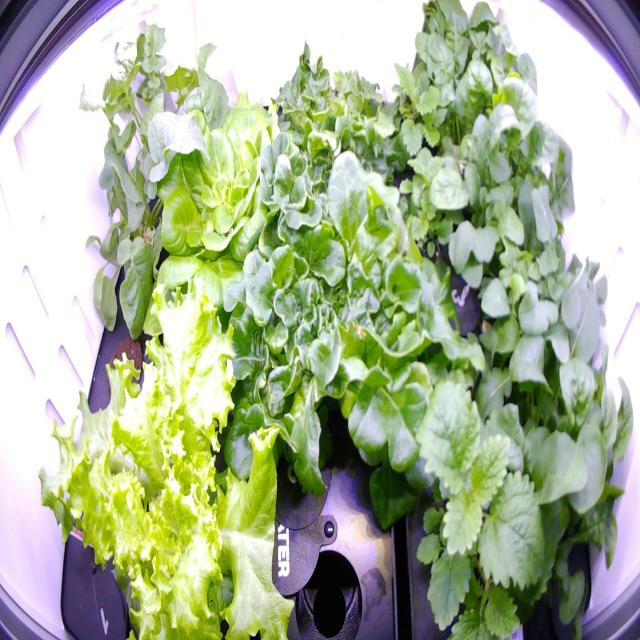Ready: (142, 77, 308, 350)
